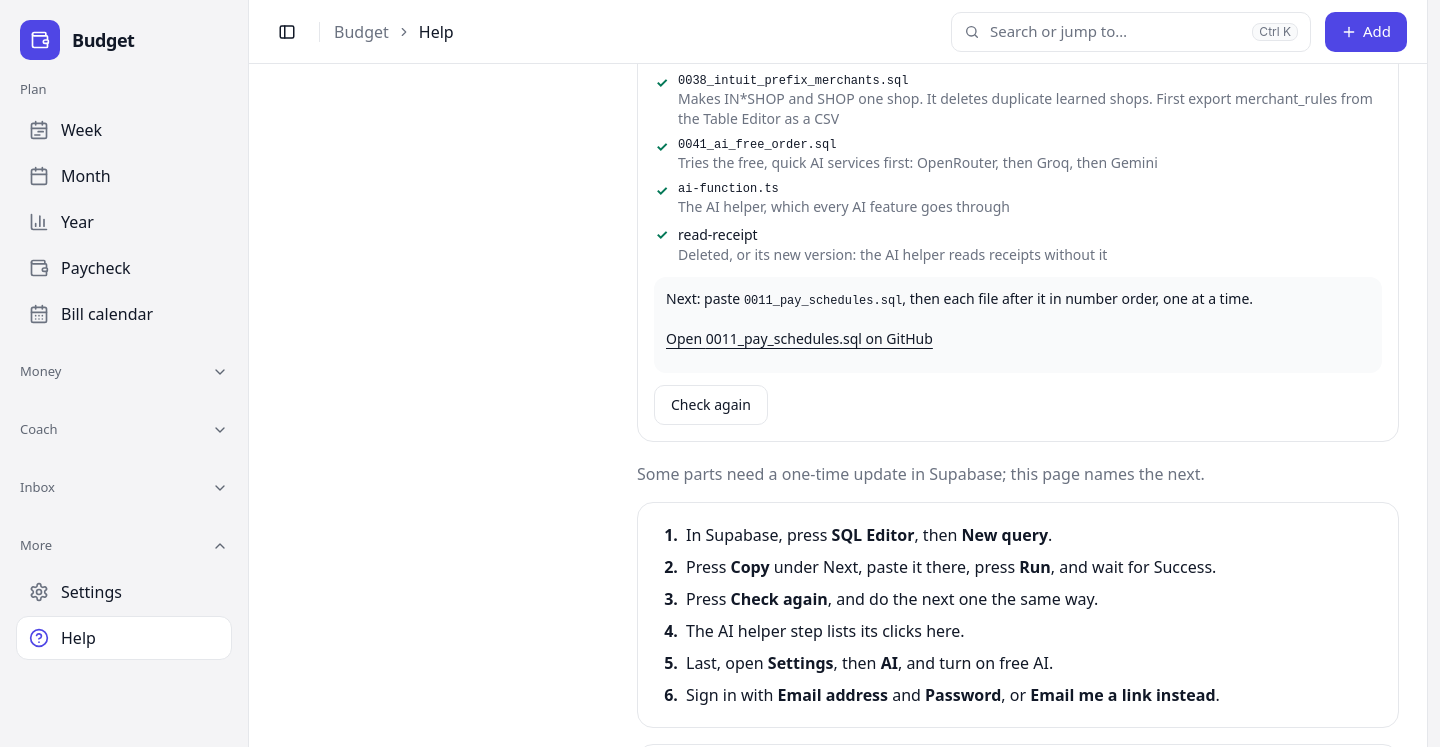
One-time updates › checks again when asked, and shows what is in now
(page scrolled)
Click the button "Check again" at (711, 405), box [654, 385, 768, 425]
(page scrolled)
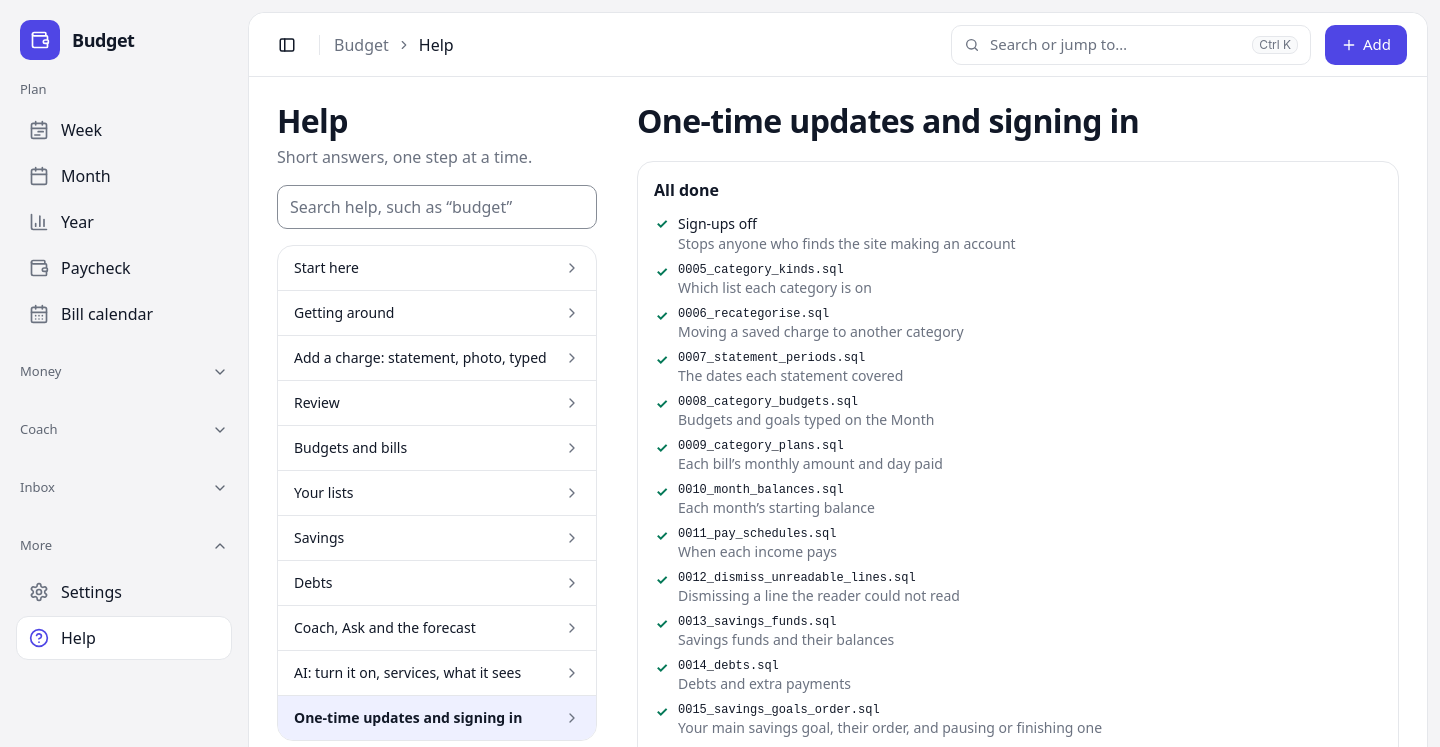
Result: the heading "All done" is shown at [654, 179, 719, 201]
